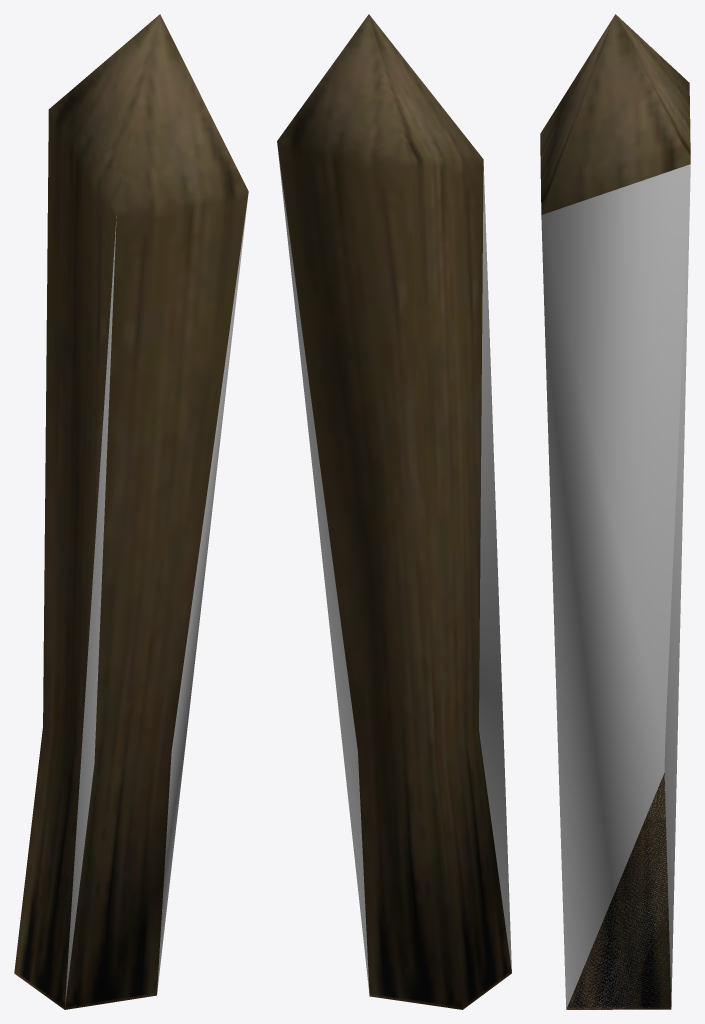
The model's file is stst149.dae.
The picture shows the model from 3 angles, left to right: view 1: azimuth 30°, elevation 25°; view 2: azimuth 150°, elevation 25°; view 3: azimuth 270°, elevation 25°; orthographic projection. The views are drawn at different scales.
Parts seen in each view (by area): view 1: point05, s29, s30; view 2: point05, s29; view 3: s29, s30, point05.
Boxes of the visible parts, x1,y1,x2,y2 form: point05: (14, 14, 248, 1009); s29: (65, 216, 116, 1006); s30: (157, 196, 248, 993); point05: (277, 14, 511, 1009); s29: (277, 145, 511, 995); s29: (541, 164, 690, 1009); s30: (541, 216, 664, 1008); point05: (540, 14, 690, 1009).
Bounding box in the file's own units: 0.18 × 0.1264 × 0.9348.
2 materials, 1 textured.
